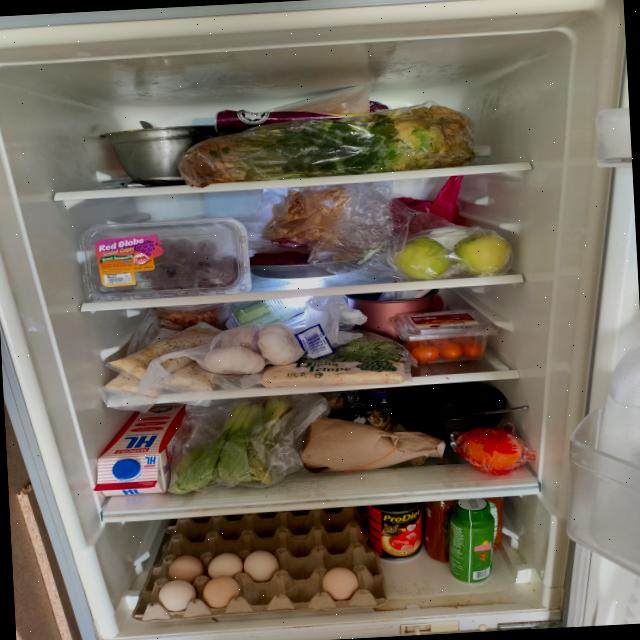apple: (454, 230, 516, 278), (394, 235, 451, 282)
egg: (127, 506, 389, 624)
garlic: (202, 321, 307, 377)
grape: (79, 214, 253, 303)
leafy_greens: (176, 104, 478, 190), (302, 332, 408, 368)
orange: (461, 429, 524, 474)
pakchoy: (164, 398, 297, 496)
tempeh: (102, 321, 227, 402), (260, 358, 406, 392)
